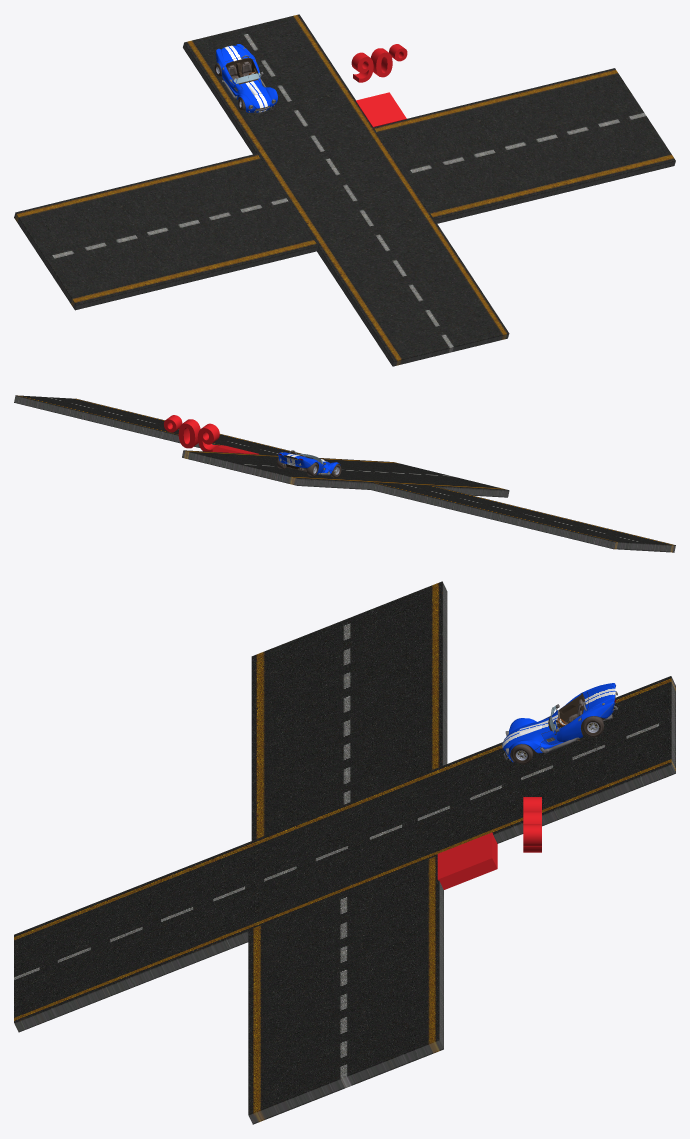
Rendered from pergunta12Obj.fbx.
3 views of the same model, one above another, from view 1: azimuth 30°, elevation 25°; view 2: azimuth 150°, elevation 25°; view 3: azimuth 270°, elevation 25° (orthographic). The views are drawn at different scales.
Parts seen in each view (by area): view 1: node_id613, node_id605, node_id579, node_id571, node_id723, node_id772, root; view 2: node_id613, node_id605, node_id571, node_id579, node_id772, node_id723; view 3: node_id605, node_id579, node_id613, node_id571, node_id723, root, node_id772.
Part boxes in pixels (<box>): node_id613: <box>14,153,317,310</box>; node_id605: <box>374,68,675,223</box>; node_id579: <box>266,139,509,366</box>; node_id571: <box>183,14,380,166</box>; node_id723: <box>216,44,277,112</box>; node_id772: <box>351,44,407,82</box>; root: <box>356,92,406,127</box>; node_id613: <box>371,482,675,552</box>; node_id605: <box>14,395,301,455</box>; node_id571: <box>182,450,379,489</box>; node_id579: <box>267,455,509,497</box>; node_id772: <box>164,415,219,451</box>; node_id723: <box>278,452,340,474</box>; node_id605: <box>248,856,443,1124</box>; node_id579: <box>14,777,414,1032</box>; node_id613: <box>251,581,447,840</box>; node_id571: <box>414,676,675,864</box>; node_id723: <box>502,683,615,762</box>; root: <box>437,832,497,889</box>; node_id772: <box>523,797,541,852</box>.
Bounding box in the file's own units: 0.8784 × 0.245 × 0.5376.
56 materials, 52 textured.
